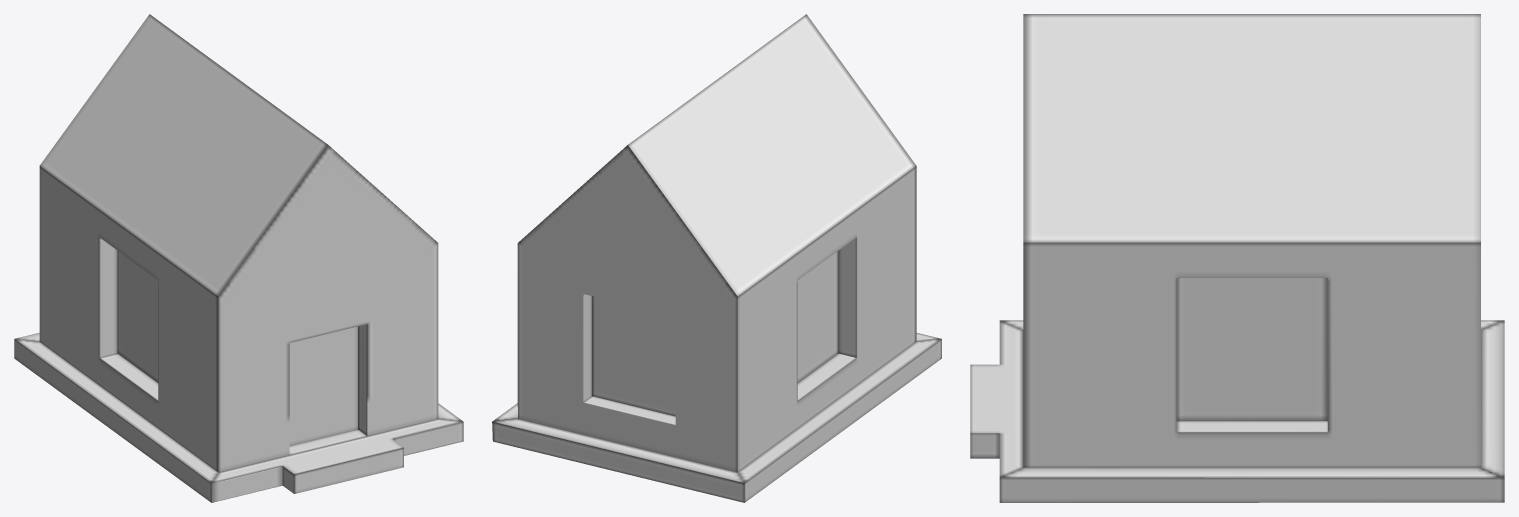
File: House-04.fbx
The picture shows the model from 3 angles, left to right: view 1: azimuth 30°, elevation 25°; view 2: azimuth 150°, elevation 25°; view 3: azimuth 270°, elevation 25°; orthographic projection. The views are drawn at different scales.
Parts seen in each view (by area): view 1: House_04; view 2: House_04; view 3: House_04.
Boxes of the visible parts, left/top/right/bottom form: House_04: left=14, top=14, right=463, bottom=502; House_04: left=492, top=14, right=941, bottom=502; House_04: left=970, top=14, right=1504, bottom=502.
Bounding box in the file's own units: 1.06 × 1.28 × 1.52.
